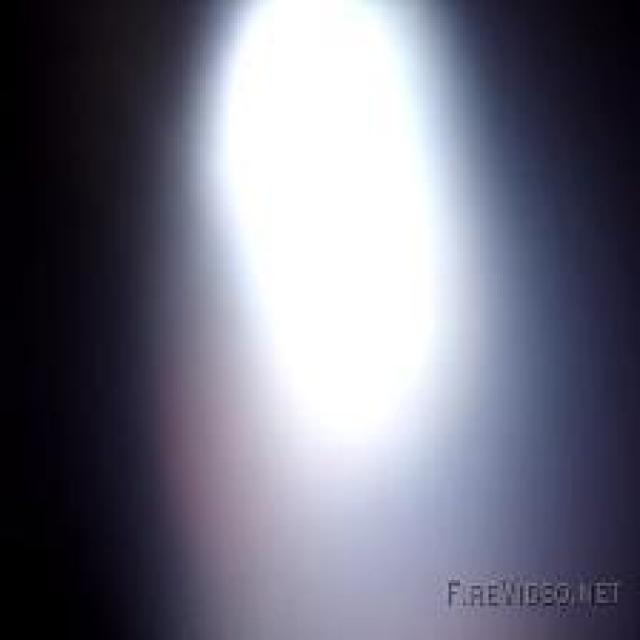other: (183, 0, 503, 457)
